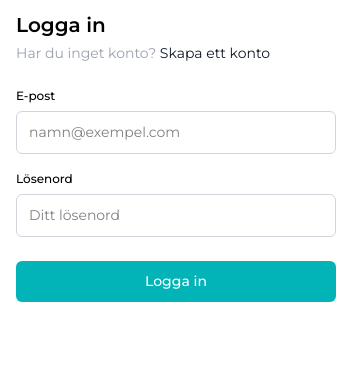
Test case: LoginForm › Render error message if login fails
In the field labelled "E-post": (176, 132) [16,111,336,154], type "test@test.com"
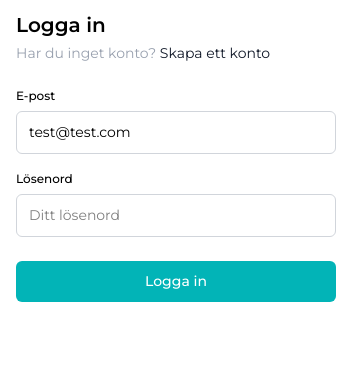
In the password field labelled "Lösenord": (176, 216) [16,194,336,237], type "fel"
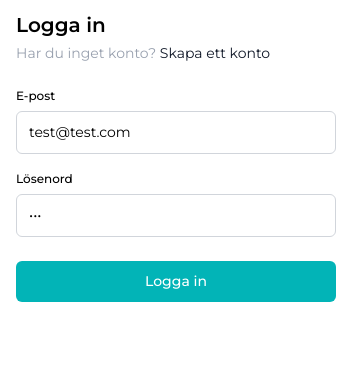
Submit the form from the button "Logga in", box [16,261,336,302]
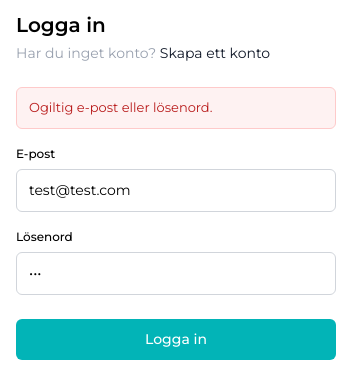
expect the text "Ogiltig e-post eller lösenord." is shown: met, box [16,87,336,128]
